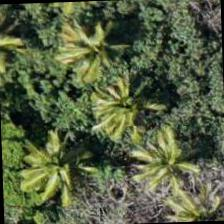Kelapa_Sawit: (119, 85, 212, 178), (3, 112, 96, 204), (68, 0, 162, 87), (149, 166, 223, 223)
